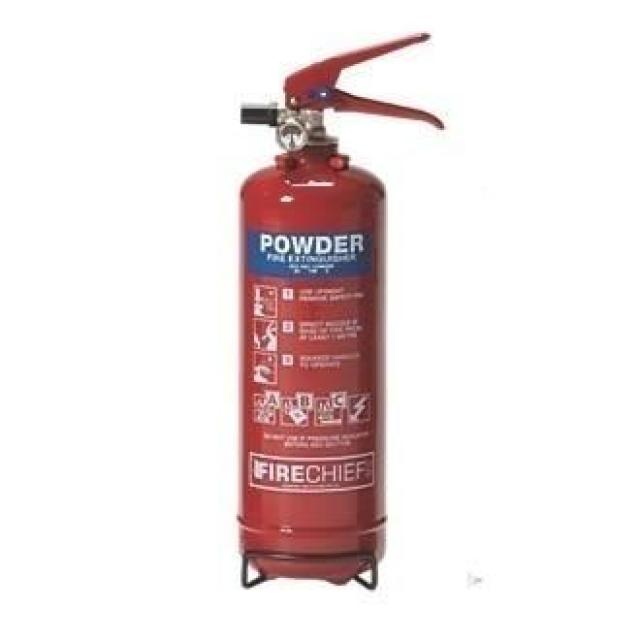fire_extinguisher: (230, 29, 443, 595)
